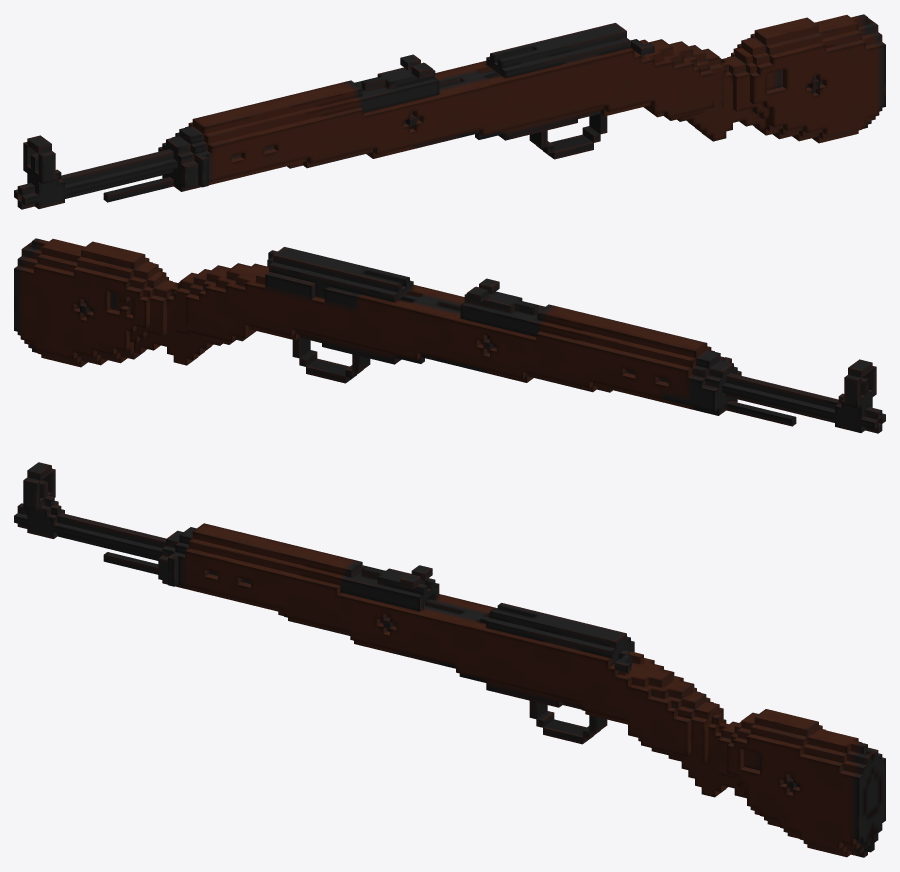
The model's file is MainGunG43.fbx.
3 renders of one model, top to bottom at view 1: azimuth 30°, elevation 25°; view 2: azimuth 150°, elevation 25°; view 3: azimuth 330°, elevation 25°, orthographic.
Parts seen in each view (by area): view 1: MainGunG43.001; view 2: MainGunG43.001; view 3: MainGunG43.001.
Part boxes in pixels (box(x1,y1,x2,y2)): MainGunG43.001: box(14, 14, 885, 209); MainGunG43.001: box(14, 238, 885, 433); MainGunG43.001: box(14, 462, 885, 857).
Size of the model in its own units: 12.9 by 2.7 by 0.8.
1 material, 1 textured.
